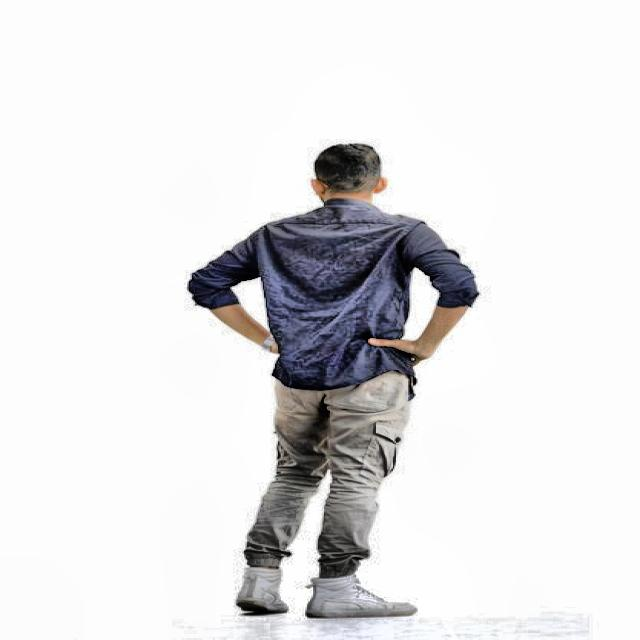Human: (170, 132, 509, 631)
